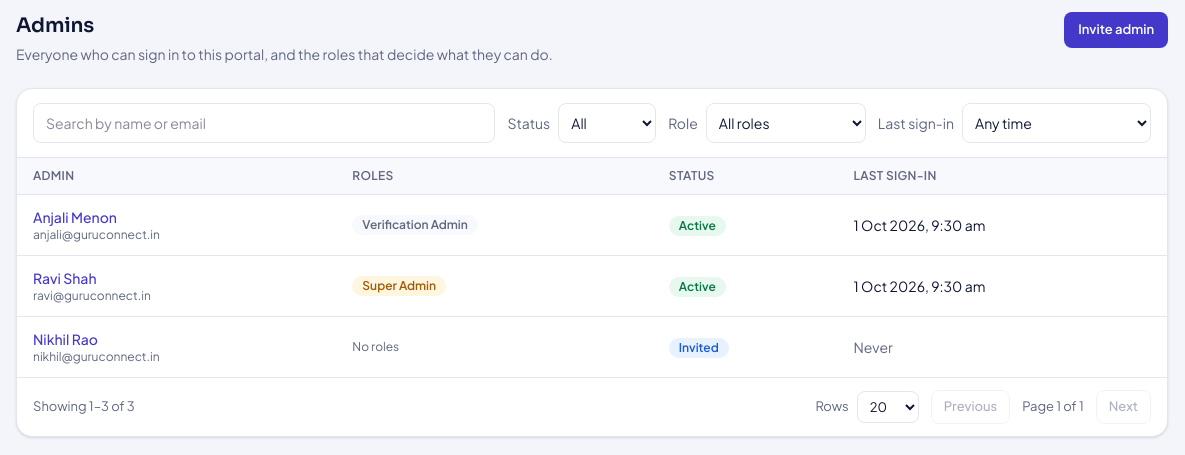
Test: AdminsListPage › says nothing matches when a filter returns no one
Expected: the link "Anjali Menon" is shown, [33,208,117,226]
Step 1. Select "Locked" in the dropdown labelled "Status" → (607, 123), box [558,103,656,143]
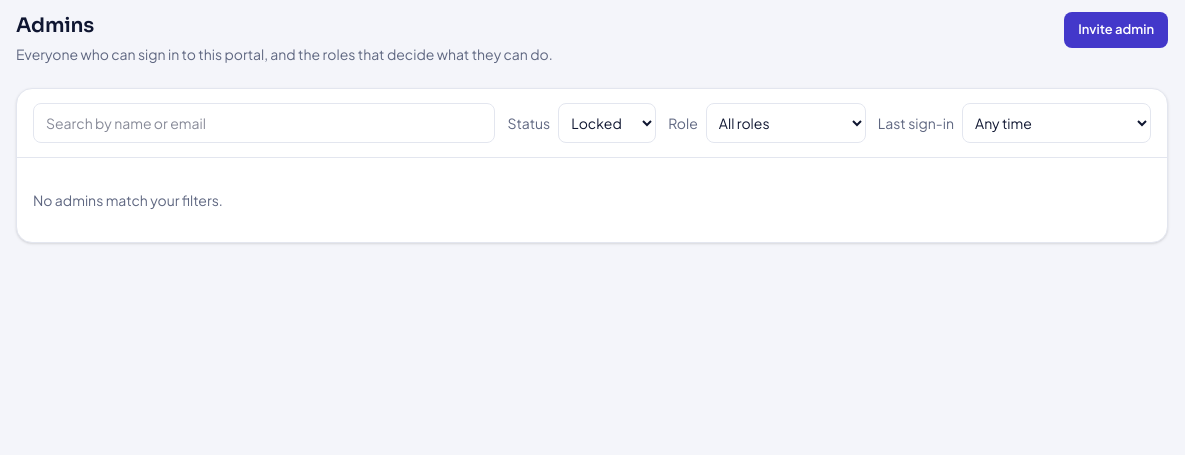
Now the text "No admins match your filters." is shown, box [33,191,223,209]
